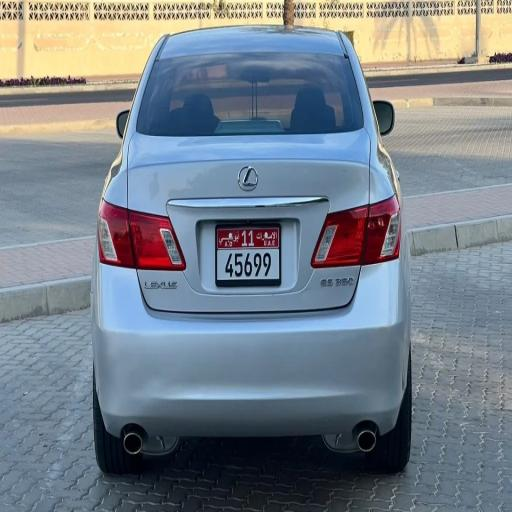license-plates: (216, 228, 279, 281)
